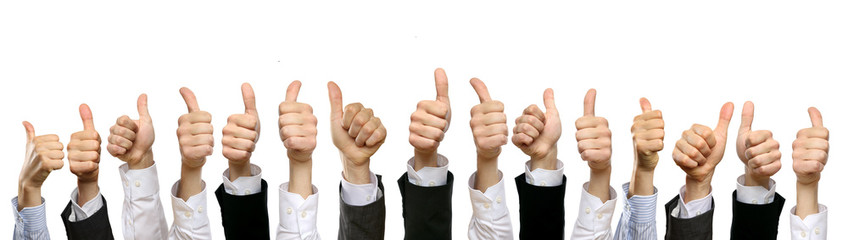thumbsup: (670, 102, 735, 170), (327, 81, 386, 149), (408, 68, 451, 152), (105, 93, 155, 163), (737, 101, 782, 177), (220, 82, 260, 162), (468, 77, 509, 151), (510, 87, 558, 150), (574, 88, 613, 163), (175, 87, 215, 159), (277, 80, 317, 151), (791, 107, 830, 174), (66, 103, 101, 176), (21, 120, 64, 171), (629, 97, 665, 153)
